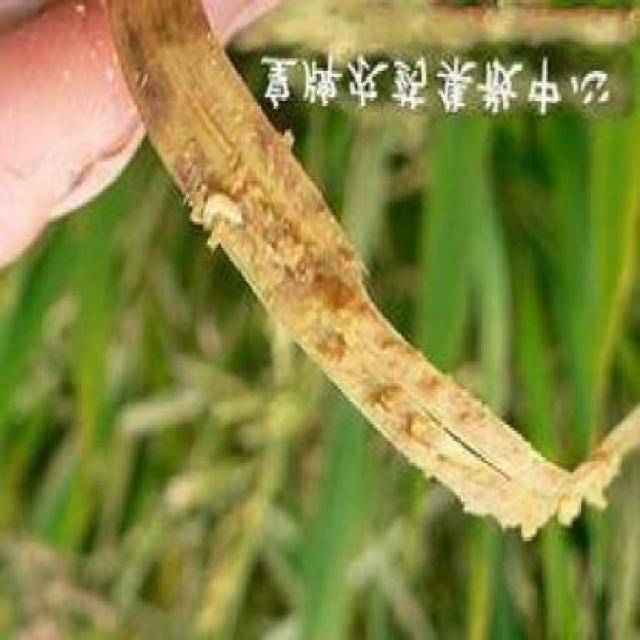whorl-maggot: (200, 185, 248, 240)
